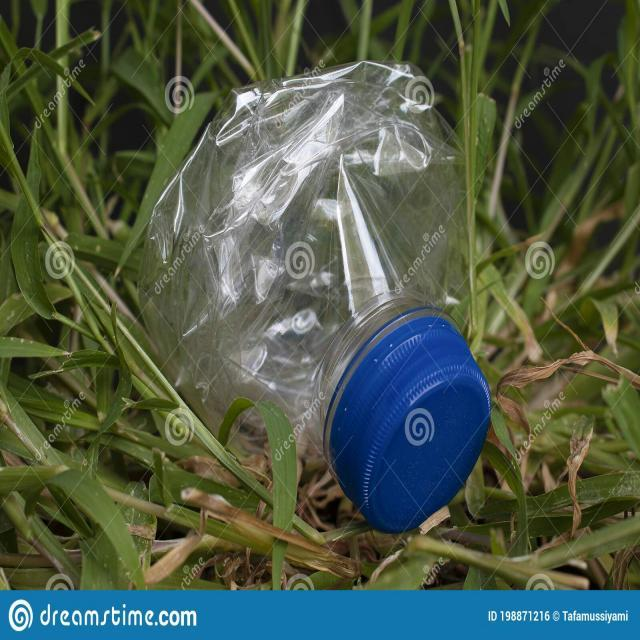plastic: (139, 36, 514, 546)
